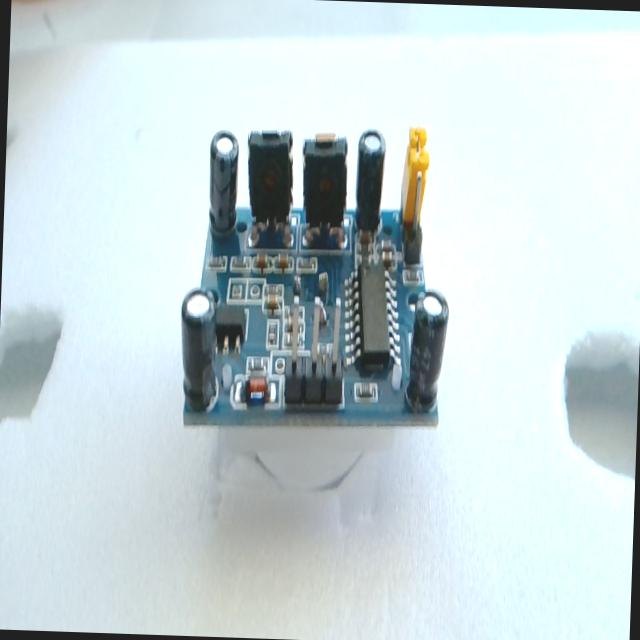Electrolytic capacitor: (170, 290, 233, 422), (408, 284, 452, 434), (198, 125, 248, 256), (351, 117, 396, 257)
IC: (336, 256, 406, 384)
